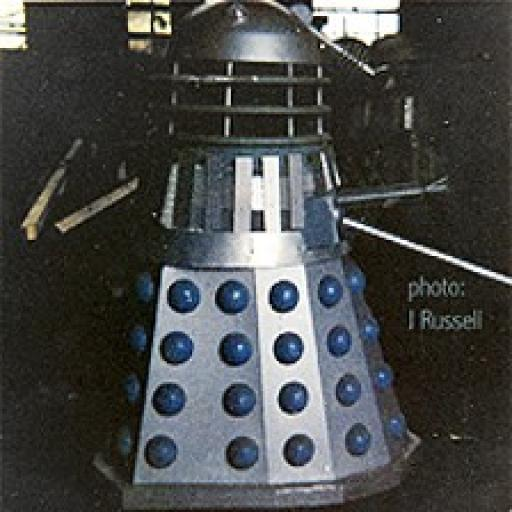dalek: (81, 0, 512, 510)
